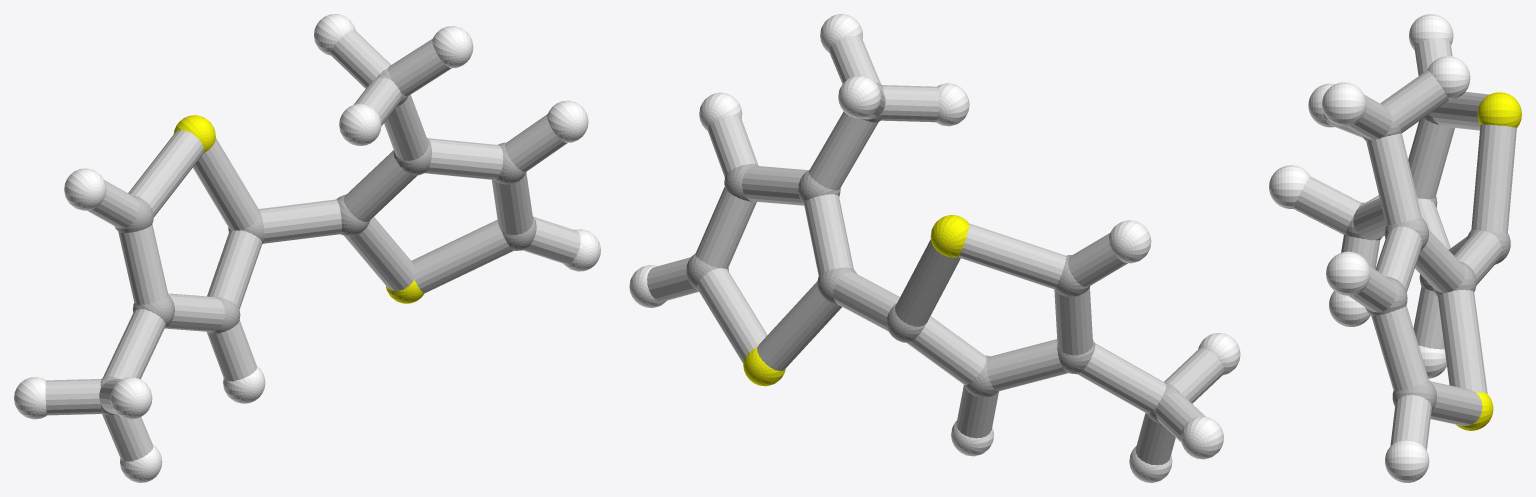
The model's file is Methylthiophene_Phi_40_Theta_40_Methylthiophene.glb.
3 renders of one model, left to right at view 1: azimuth 30°, elevation 25°; view 2: azimuth 150°, elevation 25°; view 3: azimuth 270°, elevation 25°, orthographic. The views are drawn at different scales.
Visible parts, largest first — view 1: grp7965, grp3621, grp1, grp7241; view 2: grp7965, grp3621, grp1, grp7241; view 3: grp7965, grp3621, grp1, grp7241.
Part boxes in pixels (box(x1,y1,x2,y2)): grp7965: box(45, 29, 580, 461); grp3621: box(14, 14, 600, 482); grp1: box(100, 67, 536, 415); grp7241: box(174, 115, 424, 303); grp7965: box(647, 36, 1224, 465); grp3621: box(629, 14, 1240, 482); grp1: box(686, 83, 1180, 423); grp7241: box(743, 215, 969, 386); grp7965: box(1293, 38, 1516, 450); grp3621: box(1269, 14, 1470, 482); grp1: box(1344, 103, 1510, 410); grp7241: box(1456, 92, 1521, 430).
Size of the model in its own units: 9.48 by 5.93 by 3.42.
